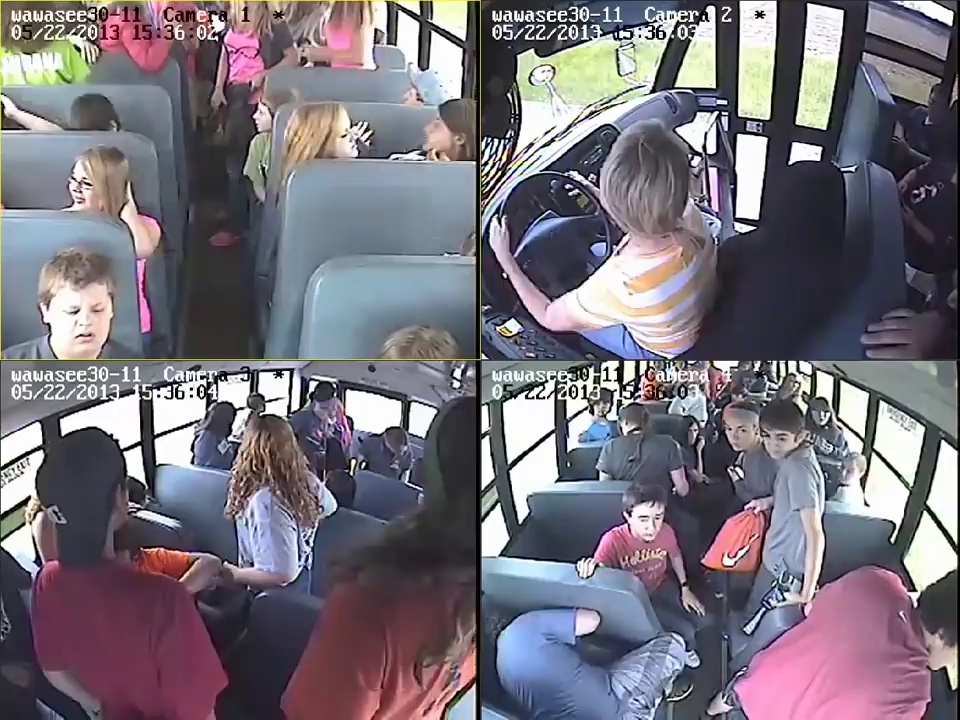face: (50, 293, 109, 350), (66, 162, 106, 209), (327, 114, 366, 156), (421, 116, 455, 154), (761, 428, 795, 458), (727, 417, 755, 453), (631, 511, 665, 540), (248, 109, 273, 132), (592, 397, 614, 415), (812, 407, 829, 426), (782, 376, 801, 390), (686, 424, 698, 442)
